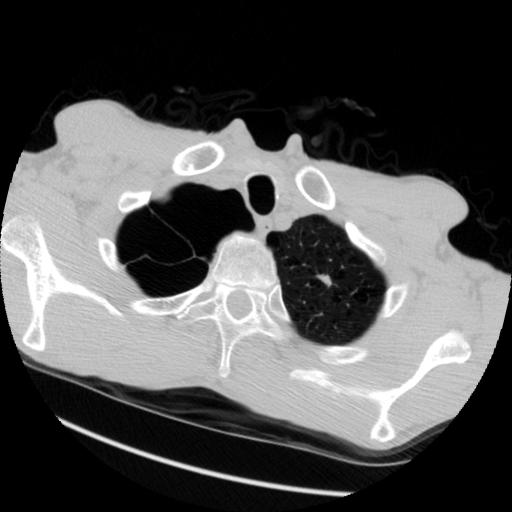nodule: (315, 268, 338, 291)
